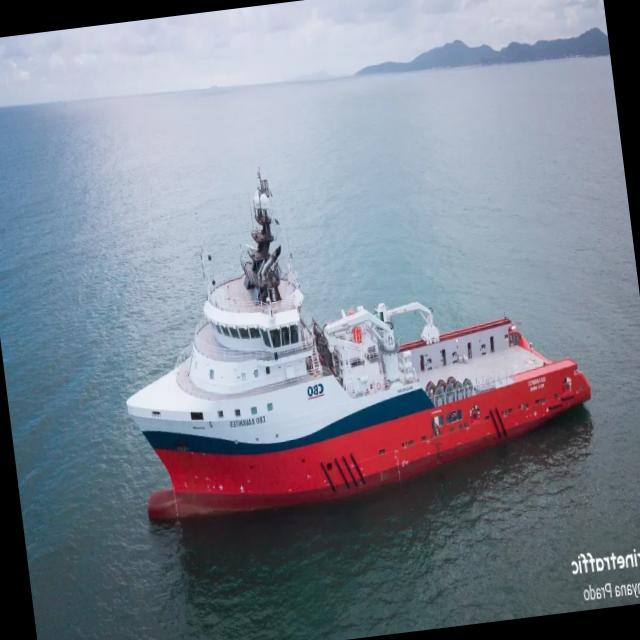Offshore: (127, 170, 591, 520)
